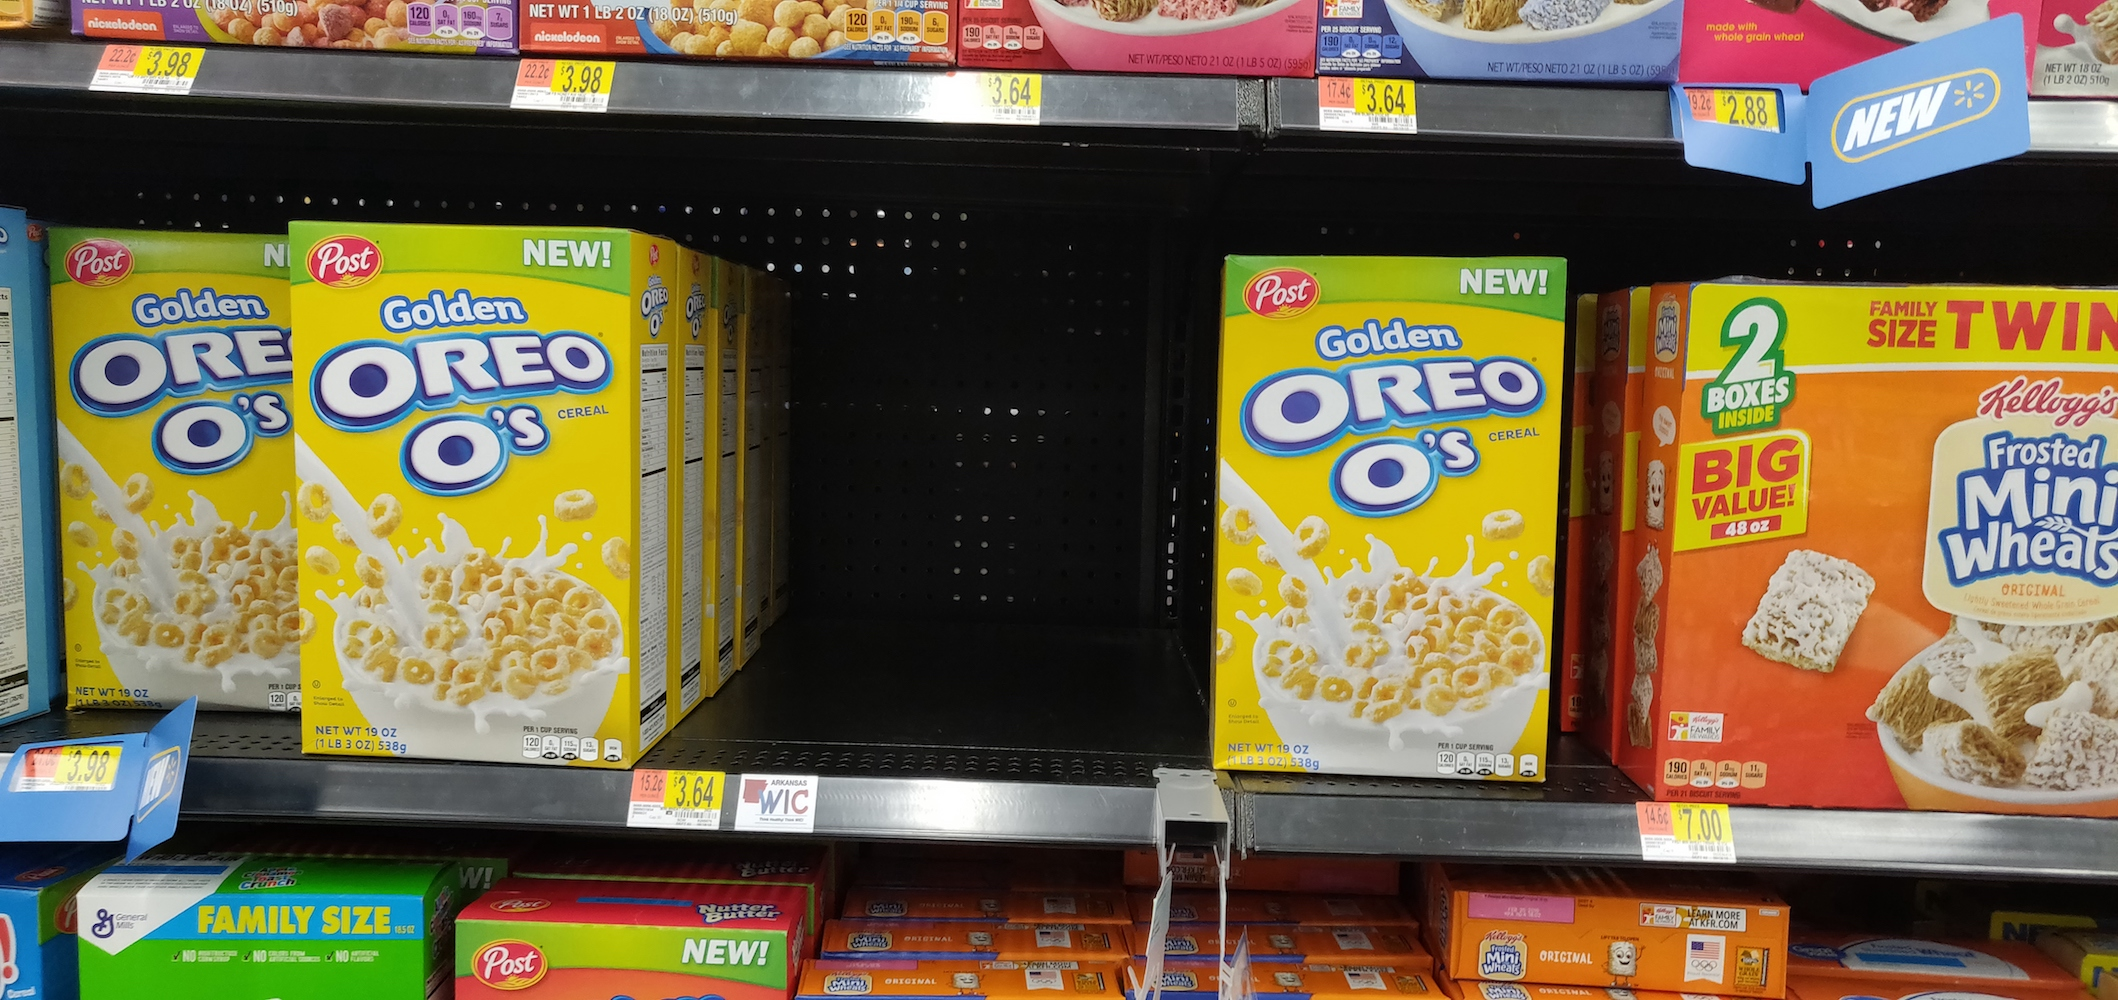Oreo Golden-568301011: (288, 232, 661, 764), (1226, 272, 1553, 795), (49, 235, 301, 705)
